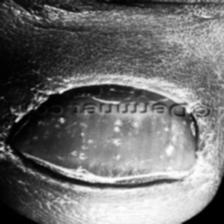Toxin: (0, 0, 224, 79), (185, 146, 222, 198), (0, 118, 19, 174)
